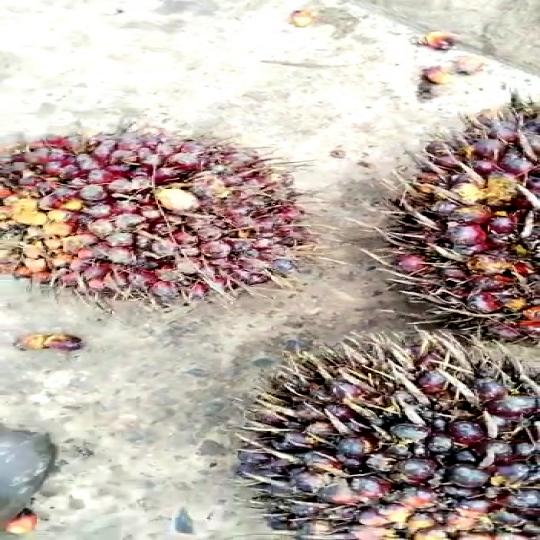masak: (0, 112, 319, 314), (355, 88, 540, 336)
